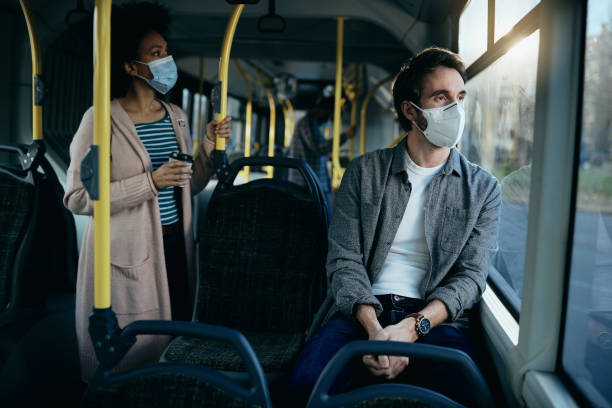with mask: (397, 54, 472, 151), (121, 18, 182, 101)
